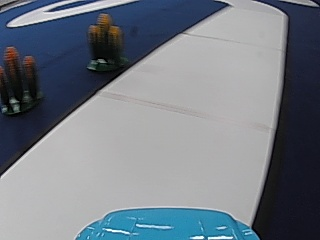corn: (1, 46, 42, 115), (86, 11, 125, 73)
